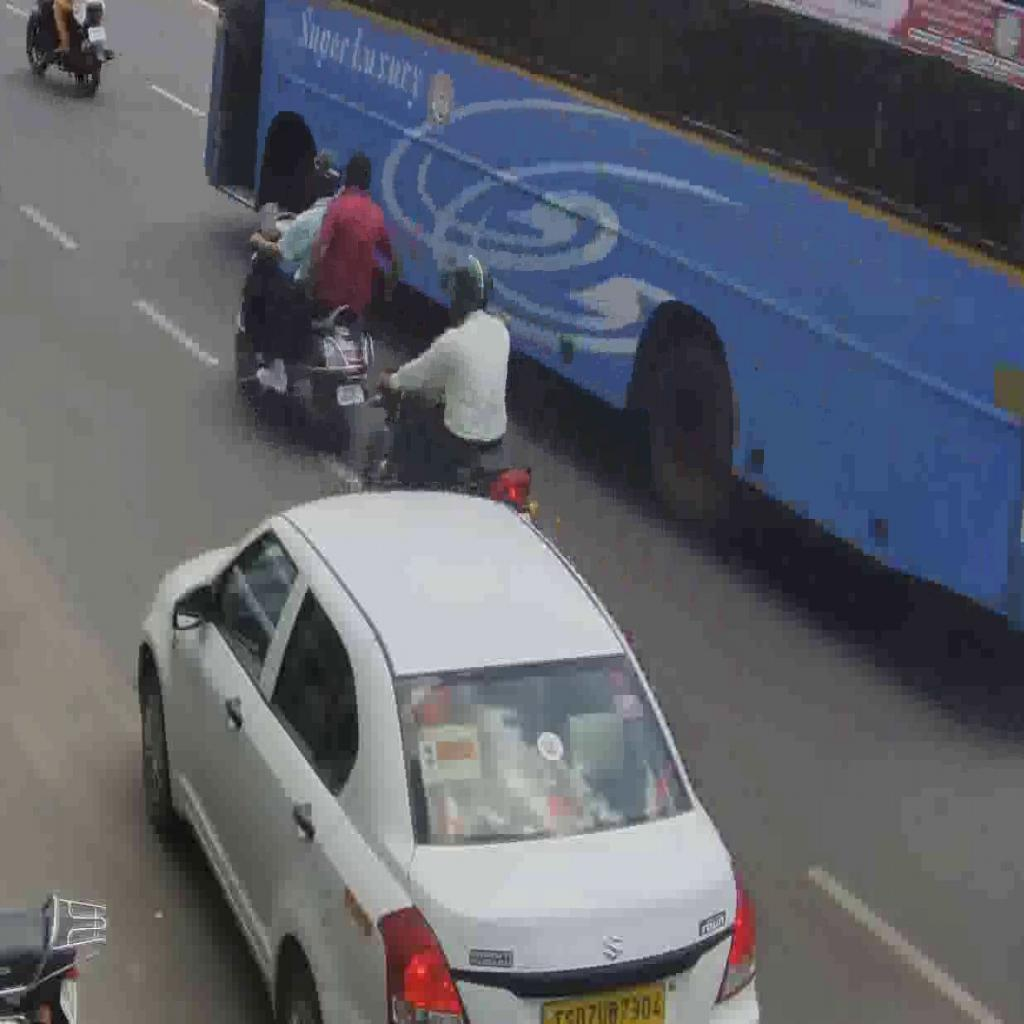helmet: (234, 208, 374, 456), (365, 363, 540, 527)
